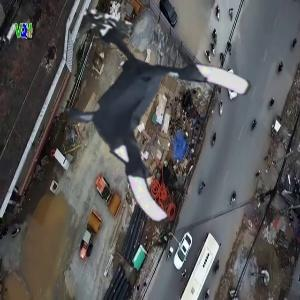drone: (52, 32, 237, 217)
